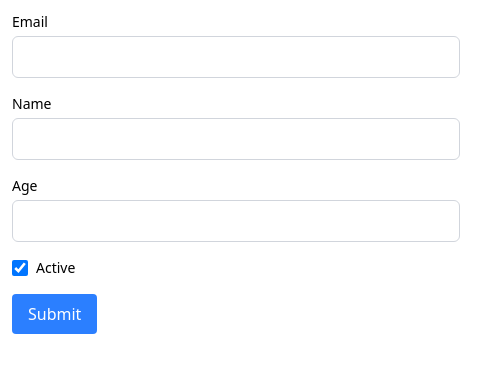
Test: Integration Tests › Full Stack Flow: API → Prisma → Database › should handle database errors gracefully
The image size is (477, 386).
Type "existing@example.com" into the field labelled "Email" at coordinates (236, 57), box x1=12 y1=36 x2=460 y2=78
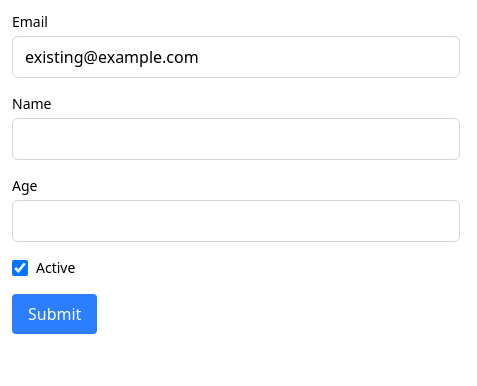
Type "Test User" into the field labelled "Name" at coordinates (236, 139), box x1=12 y1=118 x2=460 y2=160
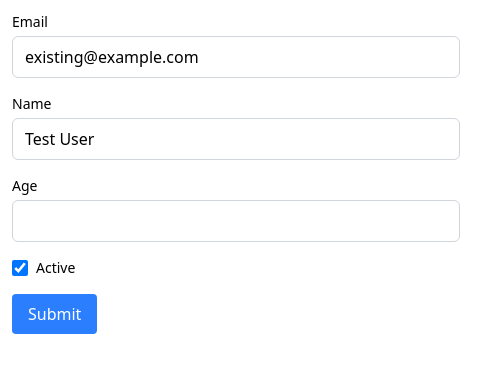
Type "25" into the number field labelled "Age" at coordinates (236, 221), box x1=12 y1=200 x2=460 y2=242
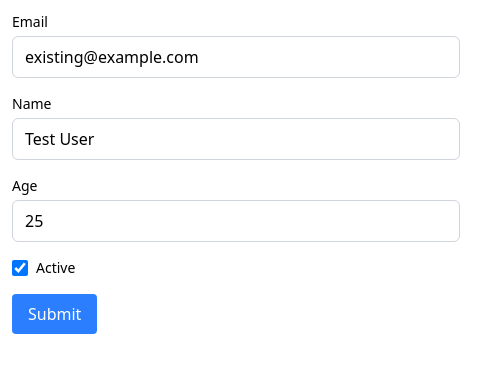
Click the button "Submit" at coordinates (55, 314), box x1=12 y1=294 x2=97 y2=334
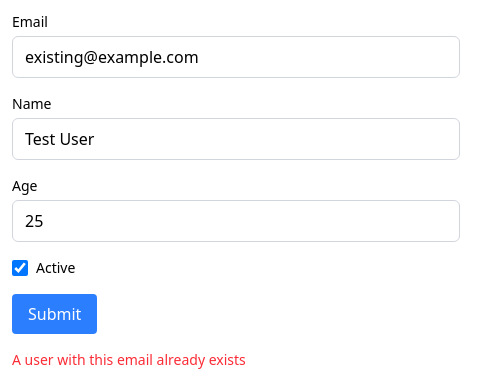
Expected: the text "A user with this email already exists" is shown, x1=12 y1=350 x2=246 y2=369
